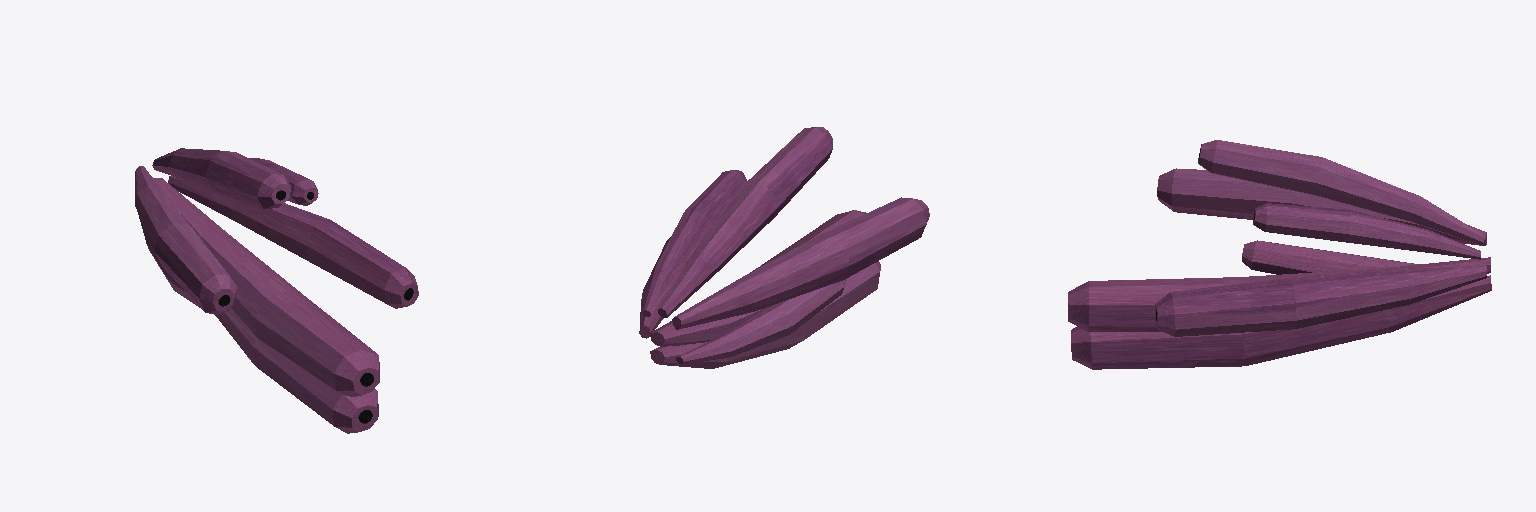
3 views of the same model, side by side, from view 1: azimuth 30°, elevation 25°; view 2: azimuth 150°, elevation 25°; view 3: azimuth 270°, elevation 25° (orthographic).
Visible parts, largest first — view 1: SeaStar_LOD1, 2, 5, SeaStar_LOD0, 6, 3; view 2: 5, 6, 4, 3, SeaStar_LOD0, SeaStar_LOD1, 2; view 3: 2, SeaStar_LOD0, 6, SeaStar_LOD1, 3, 5, 4.
Boxes of the visible parts, x1,y1,x2,y2 form: SeaStar_LOD1: [153, 178, 379, 396]; 2: [168, 176, 418, 308]; 5: [135, 166, 236, 313]; SeaStar_LOD0: [215, 307, 378, 433]; 6: [152, 148, 290, 208]; 3: [250, 158, 318, 205]; 5: [672, 197, 929, 329]; 6: [658, 127, 832, 317]; 4: [676, 279, 846, 363]; 3: [643, 170, 746, 316]; SeaStar_LOD0: [650, 261, 880, 368]; SeaStar_LOD1: [650, 210, 865, 346]; 2: [639, 237, 687, 338]; 2: [1155, 263, 1486, 336]; SeaStar_LOD0: [1071, 275, 1491, 369]; 6: [1198, 140, 1484, 245]; SeaStar_LOD1: [1068, 257, 1490, 331]; 3: [1253, 203, 1480, 259]; 5: [1157, 168, 1486, 245]; 4: [1242, 240, 1418, 274].
Bounding box in the file's own units: 0.5837 × 0.5647 × 0.9956.
Materials: 8 (1 with a texture image).